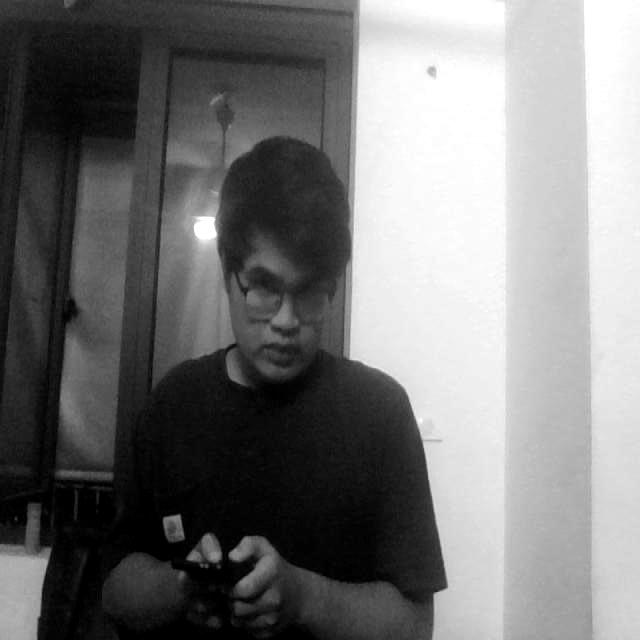phone: (171, 529, 264, 617)
